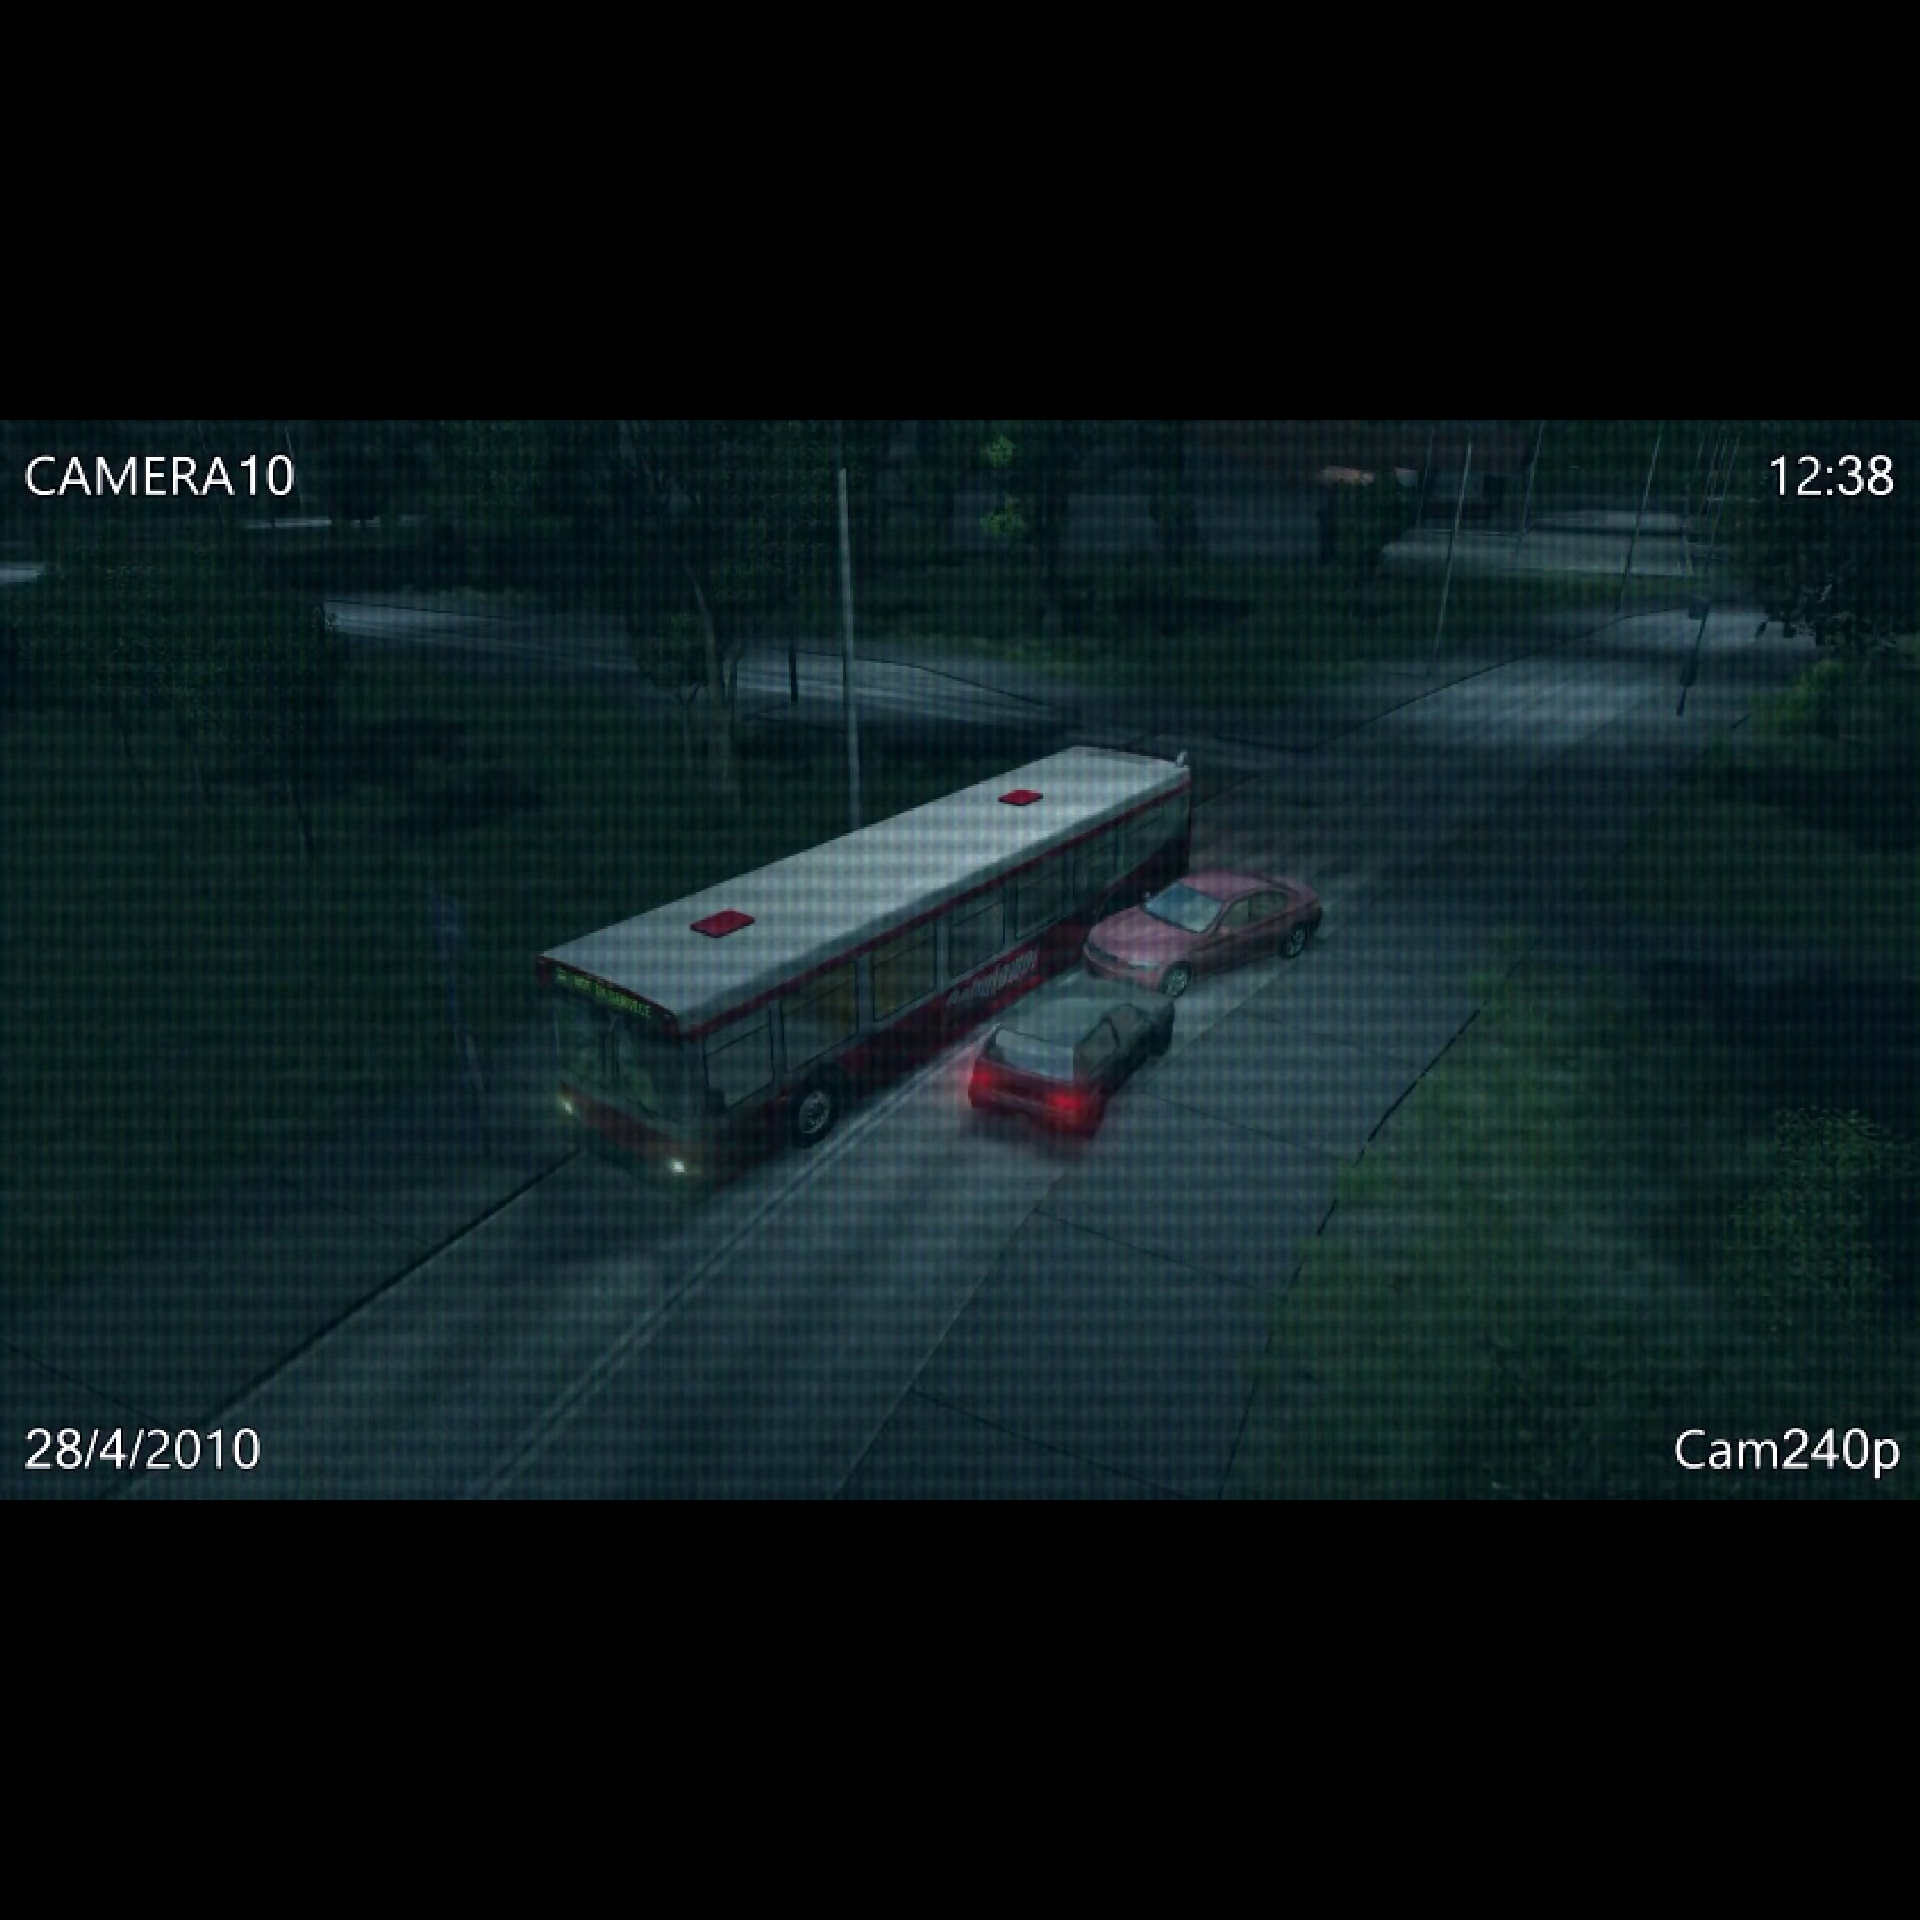vehicle: (533, 738, 1203, 1203), (960, 985, 1185, 1145), (1085, 856, 1329, 992)
